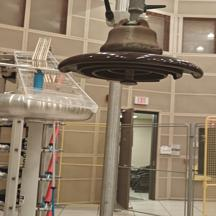insulator: (54, 14, 207, 93)
